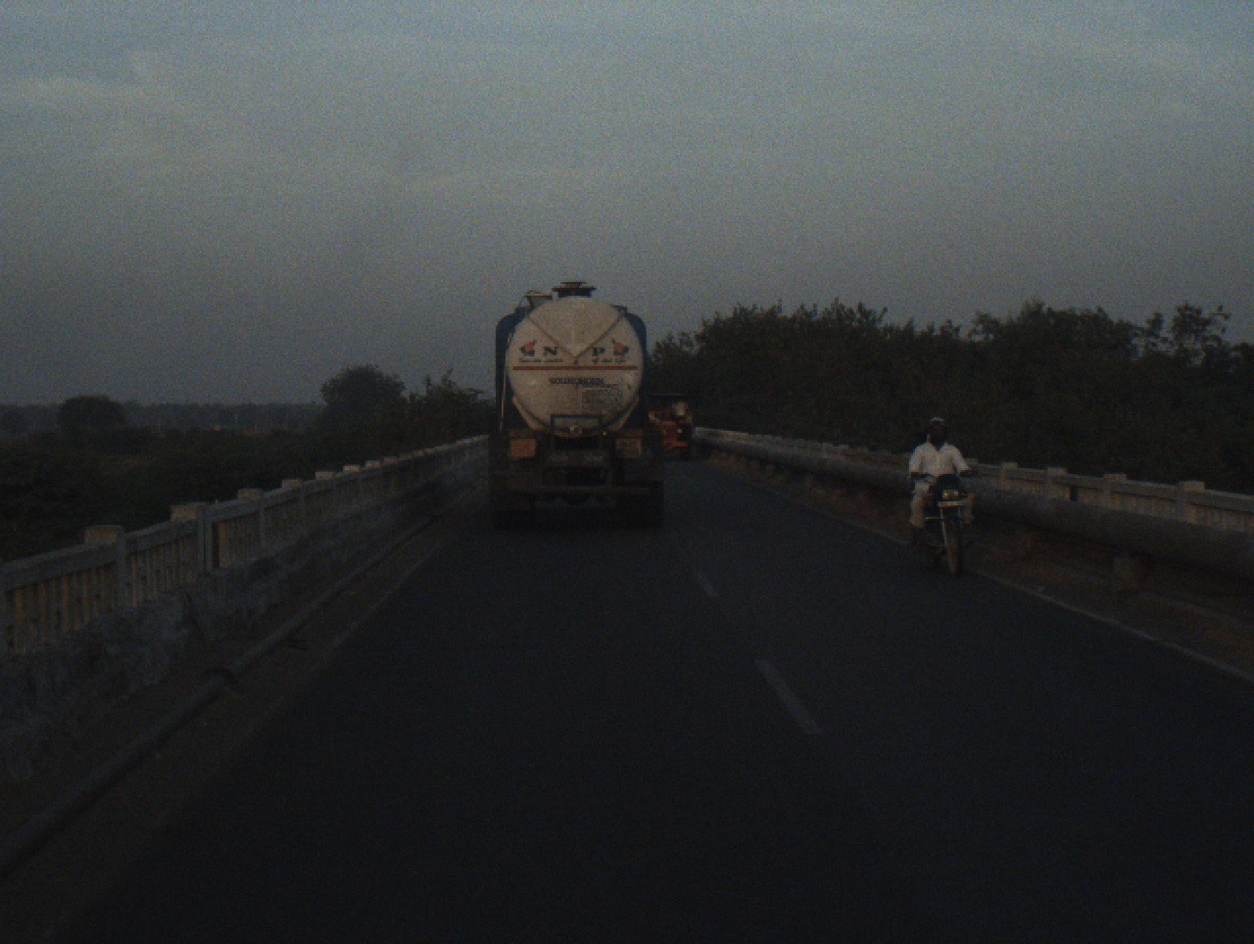motorcycle: (903, 461, 977, 580)
rider: (903, 415, 973, 549)
truck: (483, 277, 671, 539)
vehicle fallback: (633, 385, 698, 461)
